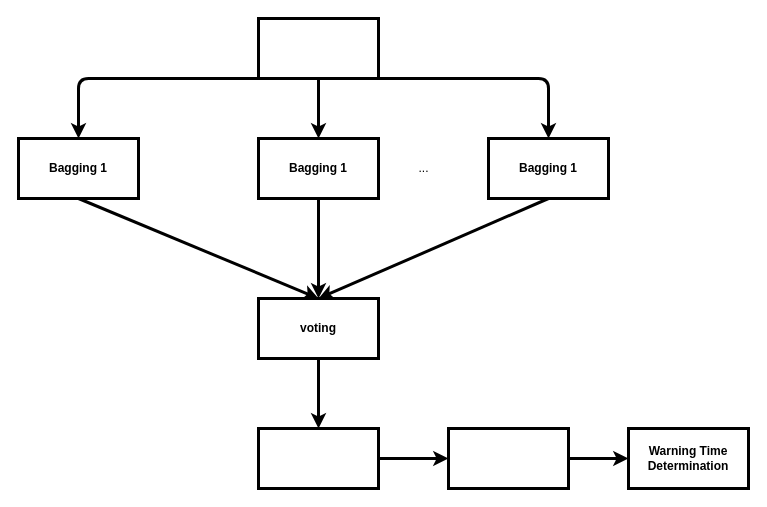
Some shapes in this 767 by 507 pixel diagram are drawn without their labels. Each missing label, with the centre of its shape:
"Data Prepration" belongs at (318,48).
"Estimation" belongs at (318,458).
"Thresholding" belongs at (508,458).
